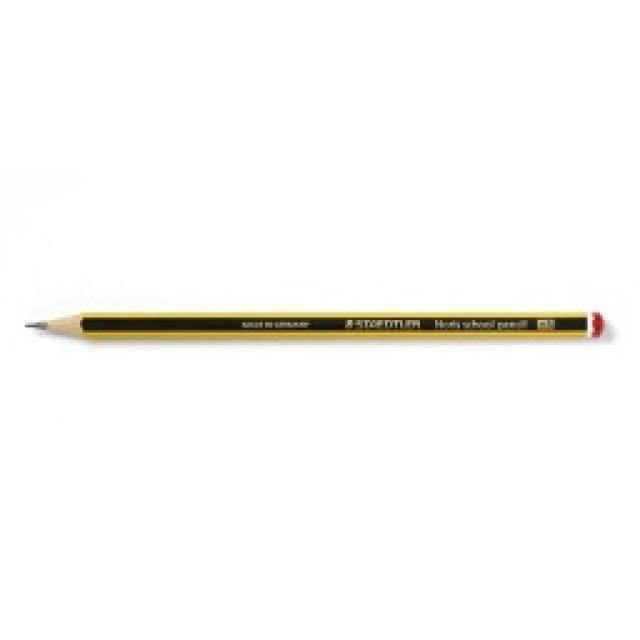pencil: (22, 308, 608, 342)
